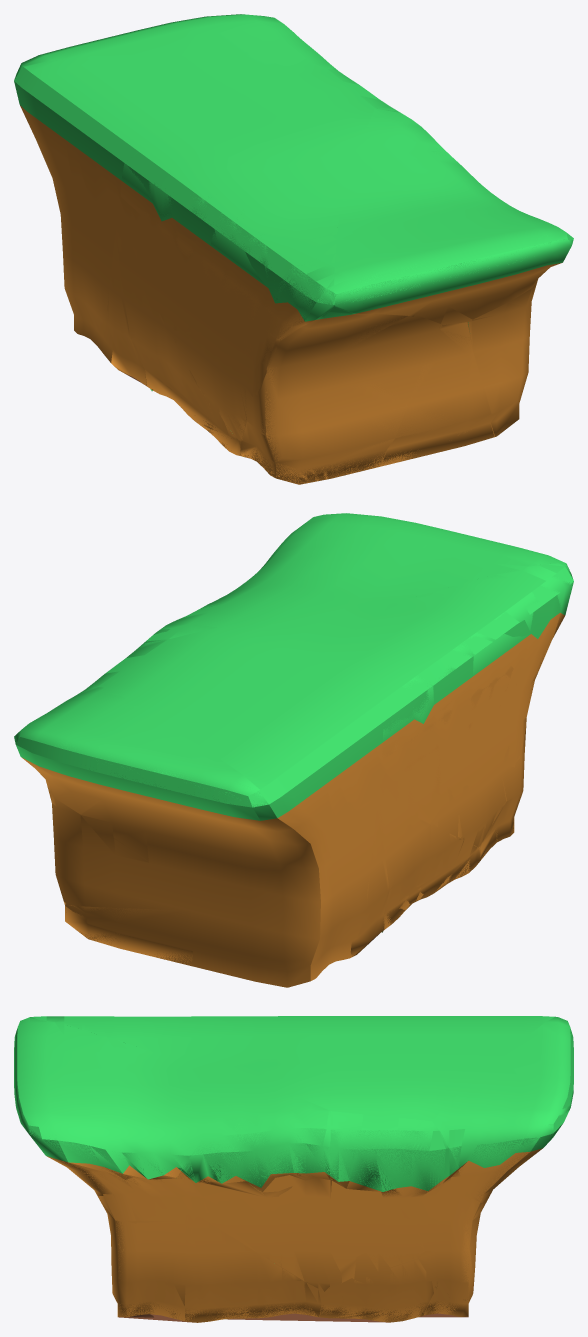
File: Smash03 NEW PLATFORM03.fbx
3 renders of one model, top to bottom at view 1: azimuth 30°, elevation 25°; view 2: azimuth 150°, elevation 25°; view 3: azimuth 270°, elevation 25°, orthographic. The views are drawn at different scales.
Visible parts, largest first — view 1: Cube, Cube_cell, Cube_cell.007, Cube_cell.016, Cube_cell.005, Cube_cell.013, Cube_cell.015, Cube_cell.008, Cube_cell.010, Cube_cell.017; view 2: Cube, Cube_cell.005, Cube_cell.016, Cube_cell.014, Cube_cell.008, Cube_cell.010, Cube_cell.017, Cube_cell, Cube_cell.007, Cube_cell.009; view 3: Cube, Cube_cell.005, Cube_cell.012, Cube_cell.001, Cube_cell.006, Cube_cell.015, Cube_cell.007, Cube_cell.003, Cube_cell.009, Cube_cell.016.
Part boxes in pixels (box(x1,y1,x2,y2)): Cube: box(14, 44, 573, 484); Cube_cell: box(240, 307, 442, 484); Cube_cell.007: box(334, 216, 573, 323); Cube_cell.016: box(120, 163, 338, 338); Cube_cell.005: box(14, 14, 334, 79); Cube_cell.013: box(382, 322, 494, 465); Cube_cell.015: box(468, 288, 532, 436); Cube_cell.008: box(115, 229, 240, 455); Cube_cell.010: box(112, 209, 280, 442); Cube_cell.017: box(107, 235, 152, 391); Cube: box(15, 513, 573, 987); Cube_cell.005: box(14, 687, 268, 861); Cube_cell.016: box(382, 563, 573, 758); Cube_cell.014: box(64, 902, 192, 962); Cube_cell.008: box(377, 800, 480, 925); Cube_cell.010: box(373, 673, 537, 847); Cube_cell.017: box(350, 805, 389, 956); Cube_cell: box(480, 726, 526, 859); Cube_cell.007: box(405, 555, 569, 597); Cube_cell.009: box(51, 792, 183, 909); Cube: box(17, 1016, 573, 1322); Cube_cell.005: box(432, 1016, 573, 1202); Cube_cell.012: box(330, 1111, 469, 1283); Cube_cell.001: box(176, 1095, 330, 1291); Cube_cell.006: box(185, 1210, 321, 1322); Cube_cell.015: box(98, 1190, 187, 1318); Cube_cell.007: box(14, 1019, 202, 1196); Cube_cell.003: box(320, 1259, 436, 1322); Cube_cell.009: box(419, 1199, 484, 1299); Cube_cell.016: box(30, 1016, 151, 1051).
Bounding box in the file's own units: 145 × 122 × 291.
